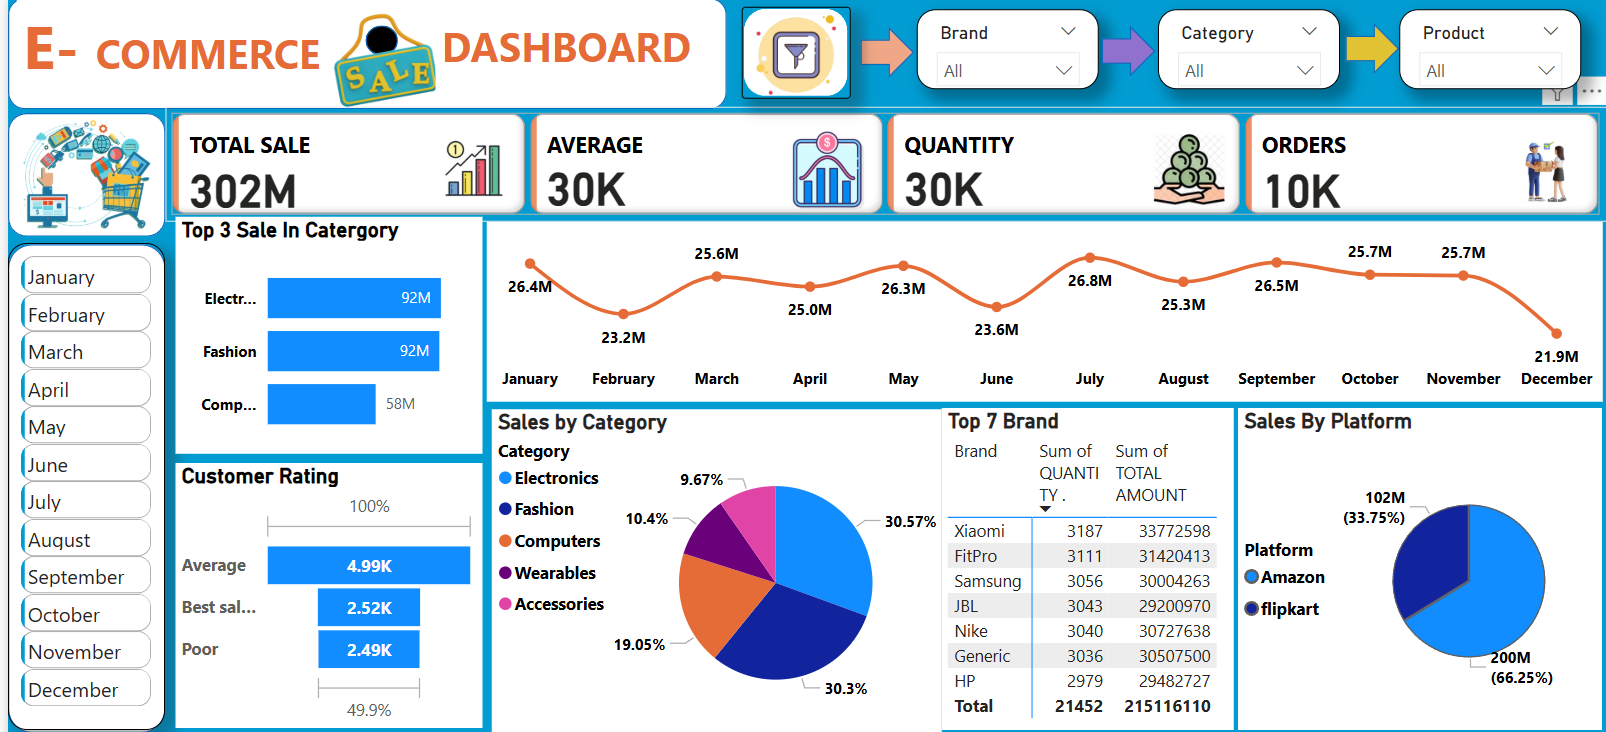

The page's visual inventory and layout, read from the dashboard file:
{"tool":"powerbi","page":{"name":"DASHBOARD","canvas":[1280,720],"ordinal":0},"visuals":[{"type":"shape","box":[0,197,126,391],"z":0},{"type":"shape","box":[0,0,575,89],"z":1000},{"type":"shape","box":[0,92,126,99],"z":2000},{"type":"advancedSlicerVisual","fields":{"Values":["ecommerce_10000.OrderDate.Variation.Date Hierarchy.Month"]},"box":[0,196,126,390],"z":3000},{"type":"cardVisual","fields":{"Data":["ecommerce_10000.TOTAL SALE","ecommerce_10000.avg","ecommerce_10000.QUANTITY 1","ecommerce_10000.ORDERS"]},"box":[126,87,1154,92],"z":4000},{"type":"slicer","fields":{"Values":["ecommerce_10000.Brand"]},"box":[727,9,146,64],"z":5000},{"type":"slicer","fields":{"Values":["ecommerce_10000.Category"]},"box":[920,9,146,64],"z":6000},{"type":"slicer","fields":{"Values":["ecommerce_10000.Product"]},"box":[1113,9,146,64],"z":7000},{"type":"shape","box":[875,22,43,41],"z":8000},{"type":"shape","box":[1070,20,43,41],"z":9000},{"type":"shape","box":[682,23,43,41],"z":10000},{"type":"shape","box":[587,7,87,74],"z":11000},{"type":"image","box":[581,0,100,92],"z":12000},{"type":"textbox","box":[7,0,253,74],"z":13000},{"type":"shape","box":[286,22,26,24],"z":14000},{"type":"image","box":[252,0,101,96],"z":15000},{"type":"textbox","box":[342,12,222,67],"z":16000},{"type":"image","box":[0,84,124,117],"z":17000},{"type":"lineChart","fields":{"Y":["Sum(ecommerce_10000.TotalAmount)"],"Category":["ecommerce_10000.OrderDate.Variation.Date Hierarchy.Month"]},"box":[383,179,893,144],"z":18000},{"type":"funnel","title":"Customer Rating","fields":{"Y":["CountNonNull(ecommerce_10000.Rating)"],"Category":["ecommerce_10000.RATING STATUS"]},"box":[134,372,246,212],"z":19000},{"type":"pieChart","title":"Sales  by Category","fields":{"Category":["ecommerce_10000.Category"],"Y":["Sum(ecommerce_10000.TotalAmount)"]},"box":[387.3,329.4,359.5,258.2],"z":20000},{"type":"clusteredBarChart","title":"Top 3 Sale In Catergory  ","fields":{"Y":["Sum(ecommerce_10000.TotalAmount)"],"Category":["ecommerce_10000.Category"]},"box":[134,175,246,190],"z":21000},{"type":"pivotTable","title":"Top 7 Brand","fields":{"Rows":["ecommerce_10000.Brand"],"Values":["Sum(ecommerce_10000.QUANTITY .)","Sum(ecommerce_10000.TOTAL AMOUNT)"]},"box":[747,328,234,258],"z":22000},{"type":"pieChart","title":"Sales By Platform","fields":{"Category":["ecommerce_10000.Platform"],"Y":["Sum(ecommerce_10000.TOTAL AMOUNT)"]},"box":[984,328,291,258],"z":23000}]}

Visuals, with their boxes on the page's 1280x720 design canvas (x1, y1, x2, y2). These are canvas units, not pixel positions in the 1606x732 screenshot, which may show the page scaled, cropped or inside an application window:
shape: {"left": 0, "top": 197, "right": 126, "bottom": 588}
shape: {"left": 0, "top": 0, "right": 575, "bottom": 89}
shape: {"left": 0, "top": 92, "right": 126, "bottom": 191}
advancedSlicerVisual - ecommerce_10000.OrderDate.Variation.Date Hierarchy.Month: {"left": 0, "top": 196, "right": 126, "bottom": 586}
cardVisual - ecommerce_10000.TOTAL SALE x ecommerce_10000.avg: {"left": 126, "top": 87, "right": 1280, "bottom": 179}
slicer - ecommerce_10000.Brand: {"left": 727, "top": 9, "right": 873, "bottom": 73}
slicer - ecommerce_10000.Category: {"left": 920, "top": 9, "right": 1066, "bottom": 73}
slicer - ecommerce_10000.Product: {"left": 1113, "top": 9, "right": 1259, "bottom": 73}
shape: {"left": 875, "top": 22, "right": 918, "bottom": 63}
shape: {"left": 1070, "top": 20, "right": 1113, "bottom": 61}
shape: {"left": 682, "top": 23, "right": 725, "bottom": 64}
shape: {"left": 587, "top": 7, "right": 674, "bottom": 81}
image: {"left": 581, "top": 0, "right": 681, "bottom": 92}
textbox: {"left": 7, "top": 0, "right": 260, "bottom": 74}
shape: {"left": 286, "top": 22, "right": 312, "bottom": 46}
image: {"left": 252, "top": 0, "right": 353, "bottom": 96}
textbox: {"left": 342, "top": 12, "right": 564, "bottom": 79}
image: {"left": 0, "top": 84, "right": 124, "bottom": 201}
lineChart - Sum(ecommerce_10000.TotalAmount) x ecommerce_10000.OrderDate.Variation.Date Hierarchy.Month: {"left": 383, "top": 179, "right": 1276, "bottom": 323}
"Customer Rating" funnel: {"left": 134, "top": 372, "right": 380, "bottom": 584}
"Sales  by Category" pieChart: {"left": 387, "top": 329, "right": 747, "bottom": 588}
"Top 3 Sale In Catergory  " clusteredBarChart: {"left": 134, "top": 175, "right": 380, "bottom": 365}
"Top 7 Brand" pivotTable: {"left": 747, "top": 328, "right": 981, "bottom": 586}
"Sales By Platform" pieChart: {"left": 984, "top": 328, "right": 1275, "bottom": 586}
